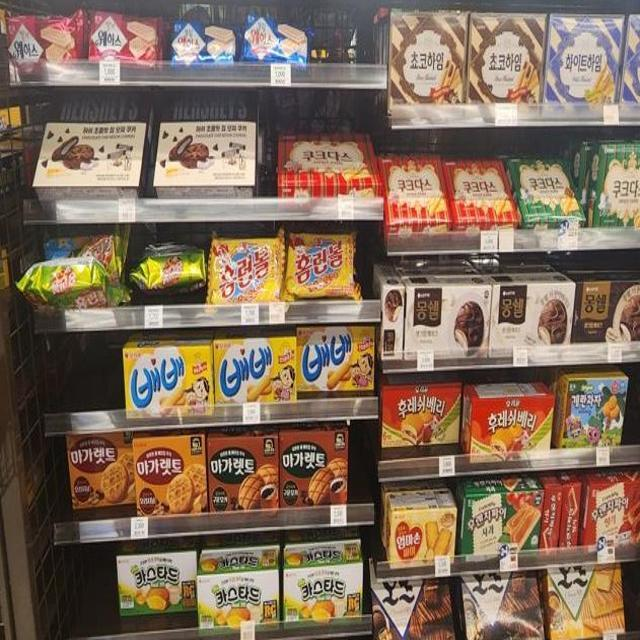product: (119, 343, 219, 422), (388, 9, 468, 104), (471, 11, 543, 115), (547, 12, 624, 105), (407, 285, 492, 365), (492, 286, 574, 362), (471, 392, 561, 459), (463, 492, 539, 566), (211, 239, 285, 311), (133, 436, 205, 510), (116, 552, 195, 614), (209, 436, 281, 504), (290, 229, 354, 301), (12, 16, 85, 79), (91, 13, 166, 74), (283, 411, 352, 477), (213, 412, 282, 478), (199, 573, 280, 628), (283, 437, 348, 501), (285, 567, 362, 618), (390, 507, 453, 566), (242, 19, 310, 70), (174, 21, 237, 74)
